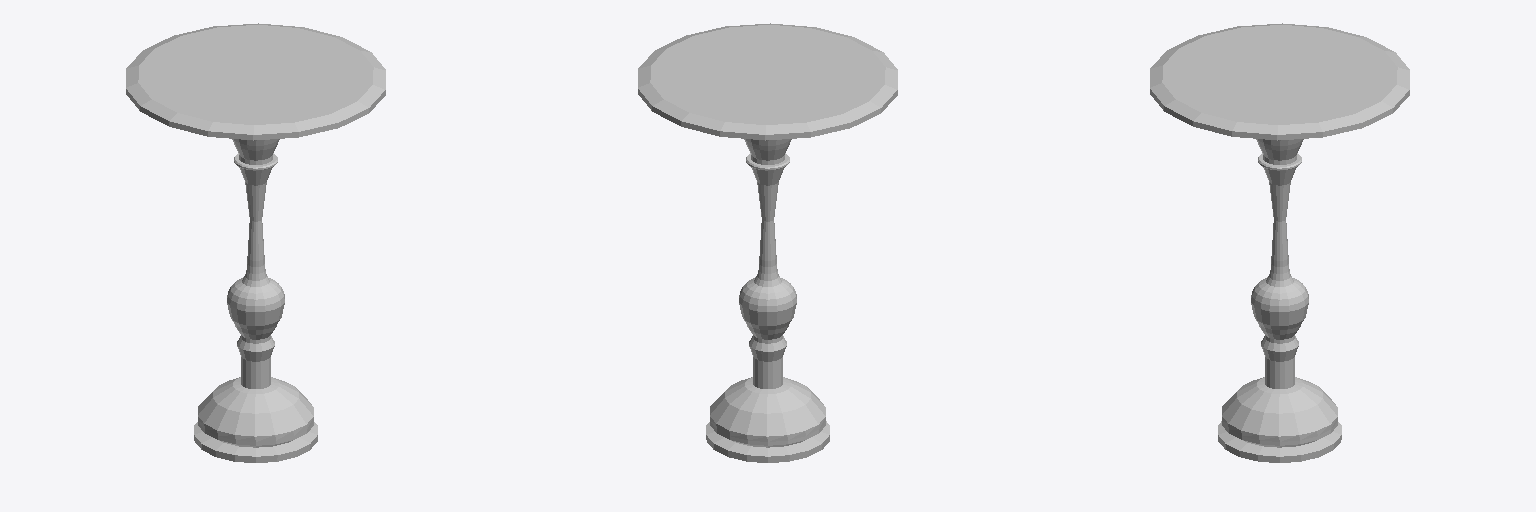
The model's file is Table.obj.
3 views of the same model, side by side, from view 1: azimuth 30°, elevation 25°; view 2: azimuth 150°, elevation 25°; view 3: azimuth 270°, elevation 25° (orthographic).
Visible parts, largest first — view 1: Cylinder01; view 2: Cylinder01; view 3: Cylinder01.
Boxes of the visible parts, box(x1,y1,x2,y2) form: Cylinder01: box(126, 23, 385, 462); Cylinder01: box(638, 23, 897, 462); Cylinder01: box(1150, 23, 1409, 462).
Size of the model in its own units: 29.99 by 45.36 by 29.63.